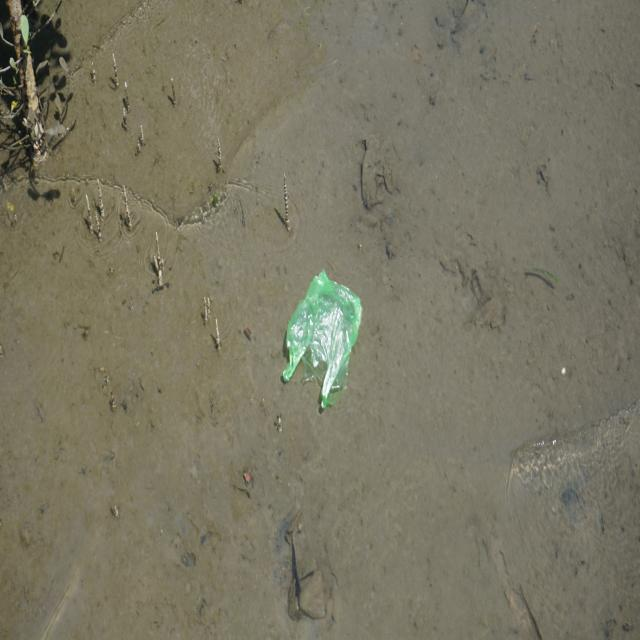Kantong Plastik: (280, 269, 368, 416)
